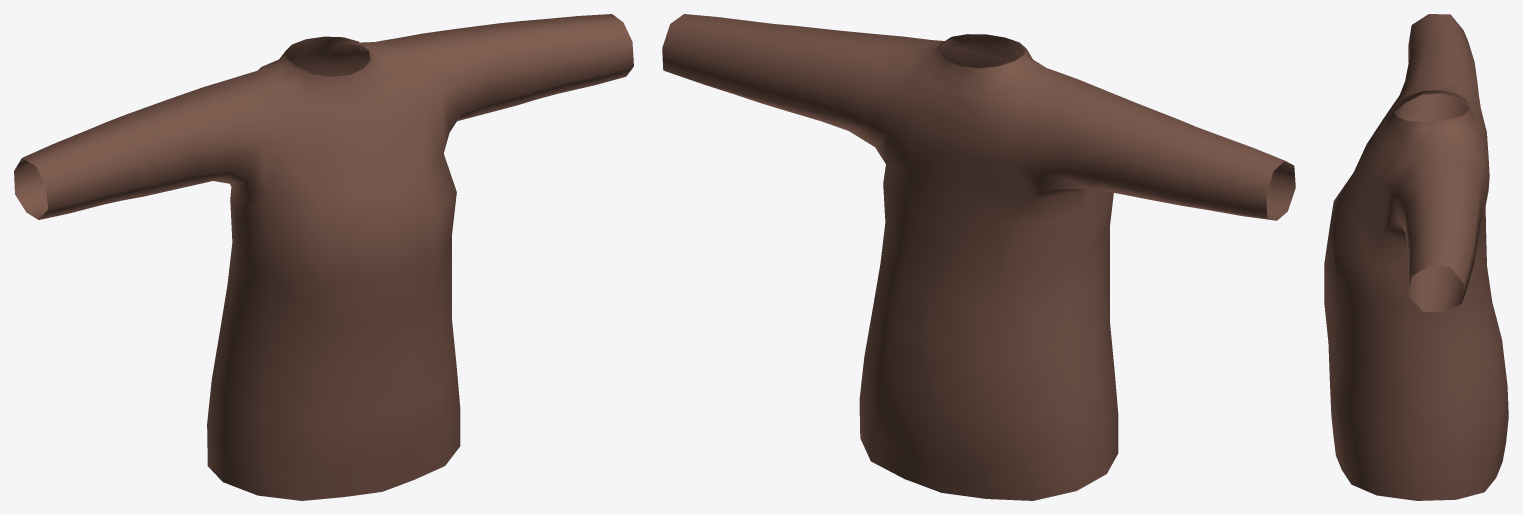
File: Outerwear_Brown_007.glb
3 views of the same model, side by side, from view 1: azimuth 30°, elevation 25°; view 2: azimuth 150°, elevation 25°; view 3: azimuth 270°, elevation 25° (orthographic). The views are drawn at different scales.
Parts seen in each view (by area): view 1: Outerwear_Brown_007; view 2: Outerwear_Brown_007; view 3: Outerwear_Brown_007.
Boxes of the visible parts, box(x1,y1,x2,y2) form: Outerwear_Brown_007: box(14, 14, 633, 500); Outerwear_Brown_007: box(662, 14, 1295, 500); Outerwear_Brown_007: box(1324, 14, 1508, 500).
Bounding box in the file's own units: 1.22 × 0.8008 × 0.3763.
Materials: 1 (1 with a texture image).
